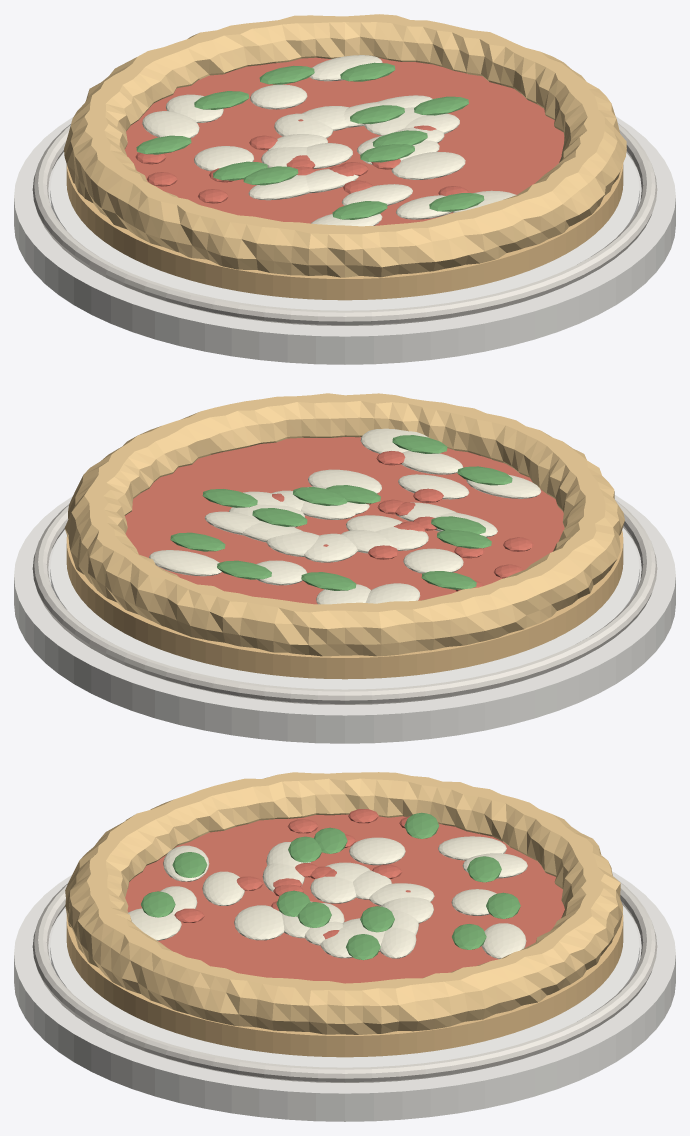
Rendered from pizza.glb.
3 views of the same model, one above another, from view 1: azimuth 30°, elevation 25°; view 2: azimuth 150°, elevation 25°; view 3: azimuth 270°, elevation 25° (orthographic).
Visible parts, largest first — view 1: part-6, part-1, part-5, part-4, part-3, part-2, part-11, part-22, part-25, part-20, part-14, part-27 (+24 smaller); view 2: part-6, part-1, part-5, part-4, part-3, part-2, part-27, part-20, part-24, part-14, part-11, part-13 (+25 smaller); view 3: part-6, part-1, part-5, part-4, part-3, part-2, part-11, part-20, part-22, part-27, part-14, part-12 (+24 smaller).
Boxes of the visible parts, x1,y1,x2,y2 form: part-6: [64, 14, 626, 277]; part-1: [14, 116, 675, 364]; part-5: [125, 57, 564, 225]; part-4: [66, 163, 623, 300]; part-3: [32, 123, 657, 325]; part-2: [50, 152, 639, 310]; part-11: [391, 152, 465, 179]; part-22: [142, 111, 199, 138]; part-25: [250, 84, 307, 109]; part-20: [194, 146, 253, 171]; part-14: [342, 184, 412, 205]; part-27: [309, 55, 382, 81]; part-6: [64, 393, 624, 656]; part-1: [14, 495, 675, 743]; part-5: [125, 437, 564, 604]; part-4: [66, 530, 623, 679]; part-3: [32, 500, 657, 704]; part-2: [50, 528, 639, 689]; part-27: [149, 550, 221, 576]; part-20: [403, 548, 463, 573]; part-24: [303, 533, 357, 562]; part-14: [398, 474, 469, 499]; part-11: [308, 469, 381, 493]; part-13: [401, 451, 463, 474]; part-6: [65, 772, 622, 1034]; part-1: [14, 871, 675, 1121]; part-5: [125, 814, 564, 983]; part-4: [66, 911, 623, 1057]; part-3: [32, 876, 657, 1082]; part-2: [50, 905, 639, 1067]; part-11: [234, 905, 284, 940]; part-20: [349, 837, 405, 865]; part-22: [438, 836, 506, 860]; part-27: [481, 923, 526, 958]; part-14: [202, 871, 244, 905]; part-12: [128, 908, 181, 940].
Size of the model in its own units: 0.34 by 0.0573 by 0.34.
